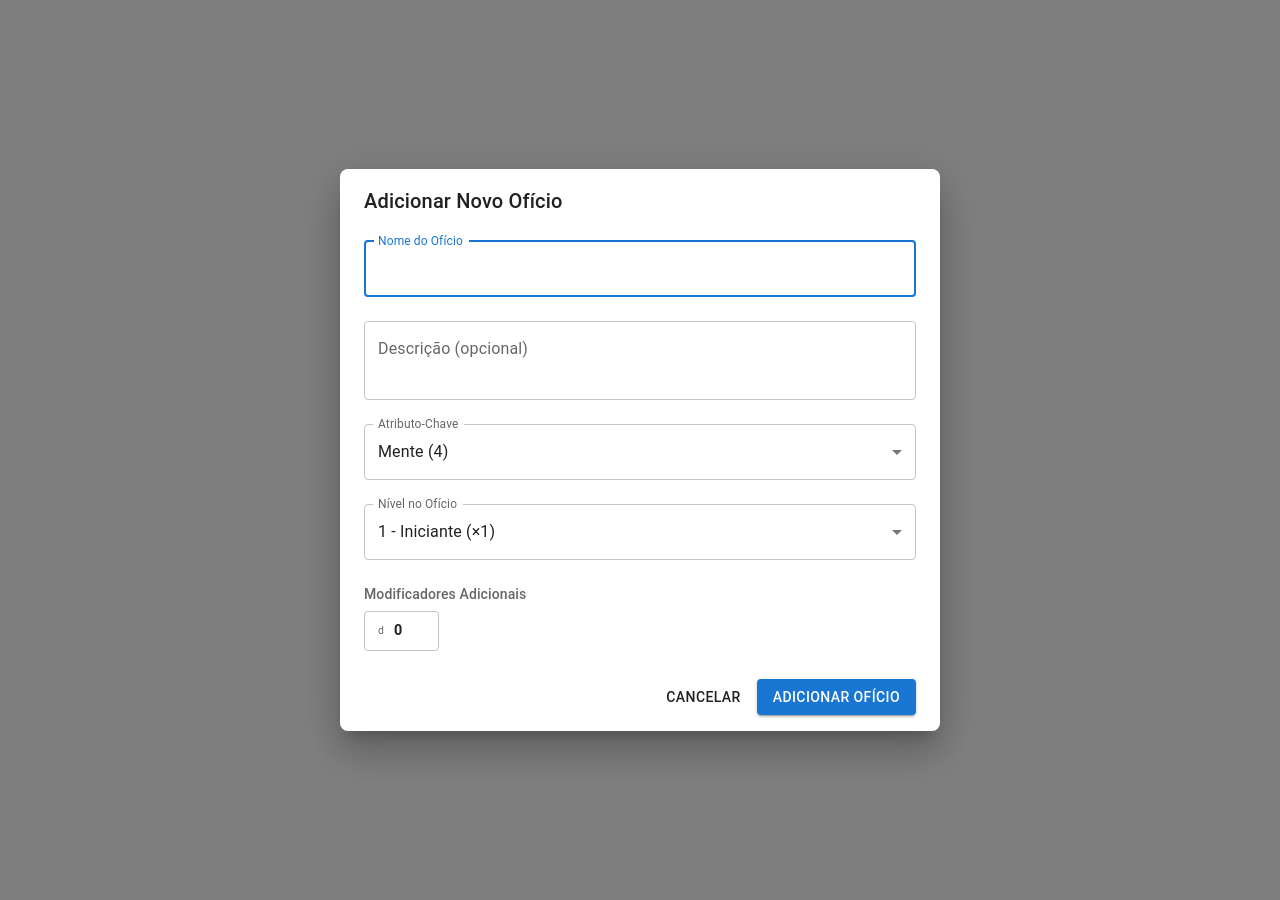
CraftForm › Criação de Ofício › deve validar campo nome obrigatório
This screenshot has width=1280, height=900.
Click the button "Adicionar Ofício".
click(836, 697)  # box [757,679,916,715]
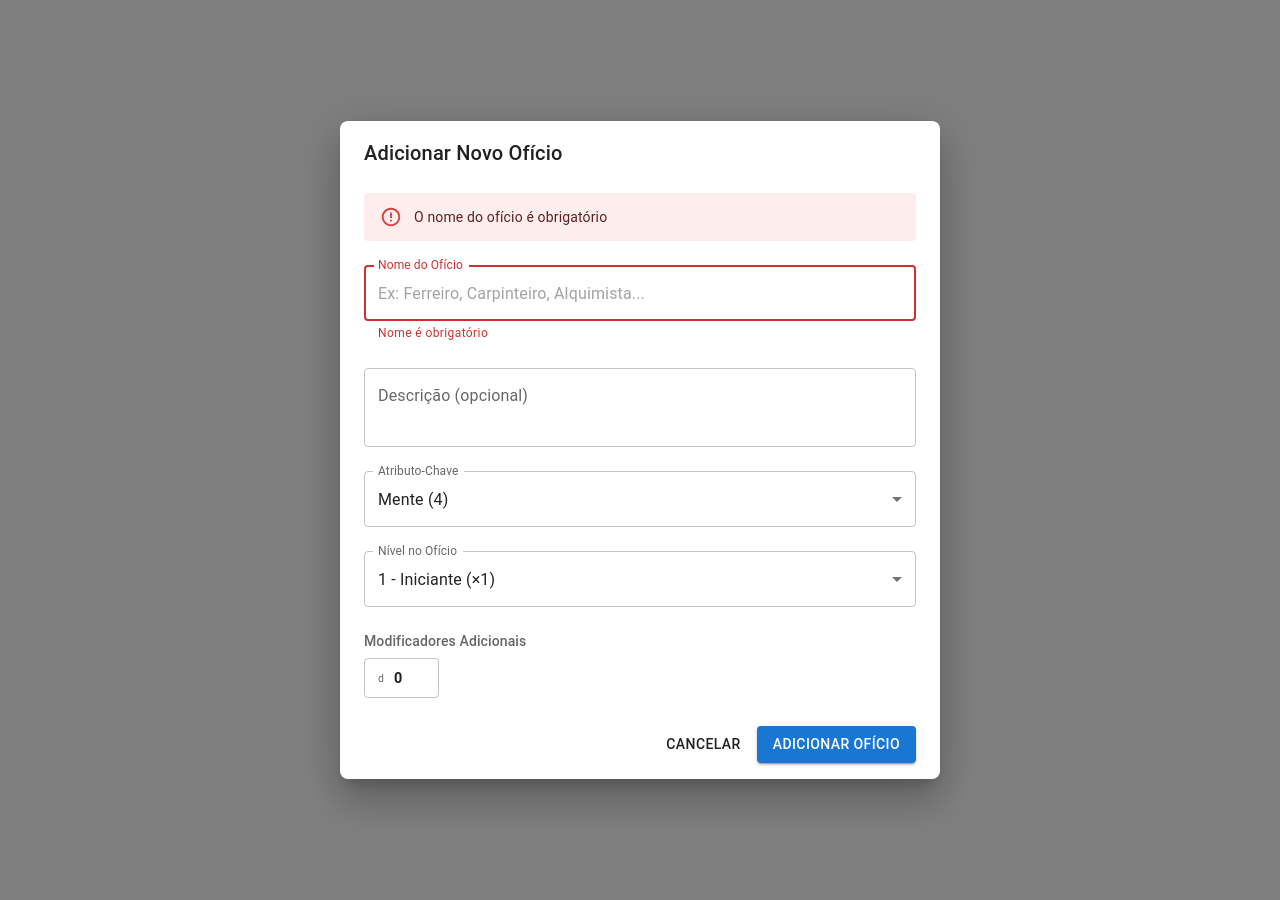
Now the text "O nome do ofício é obrigatório" is shown, box [414,209,607,225]
